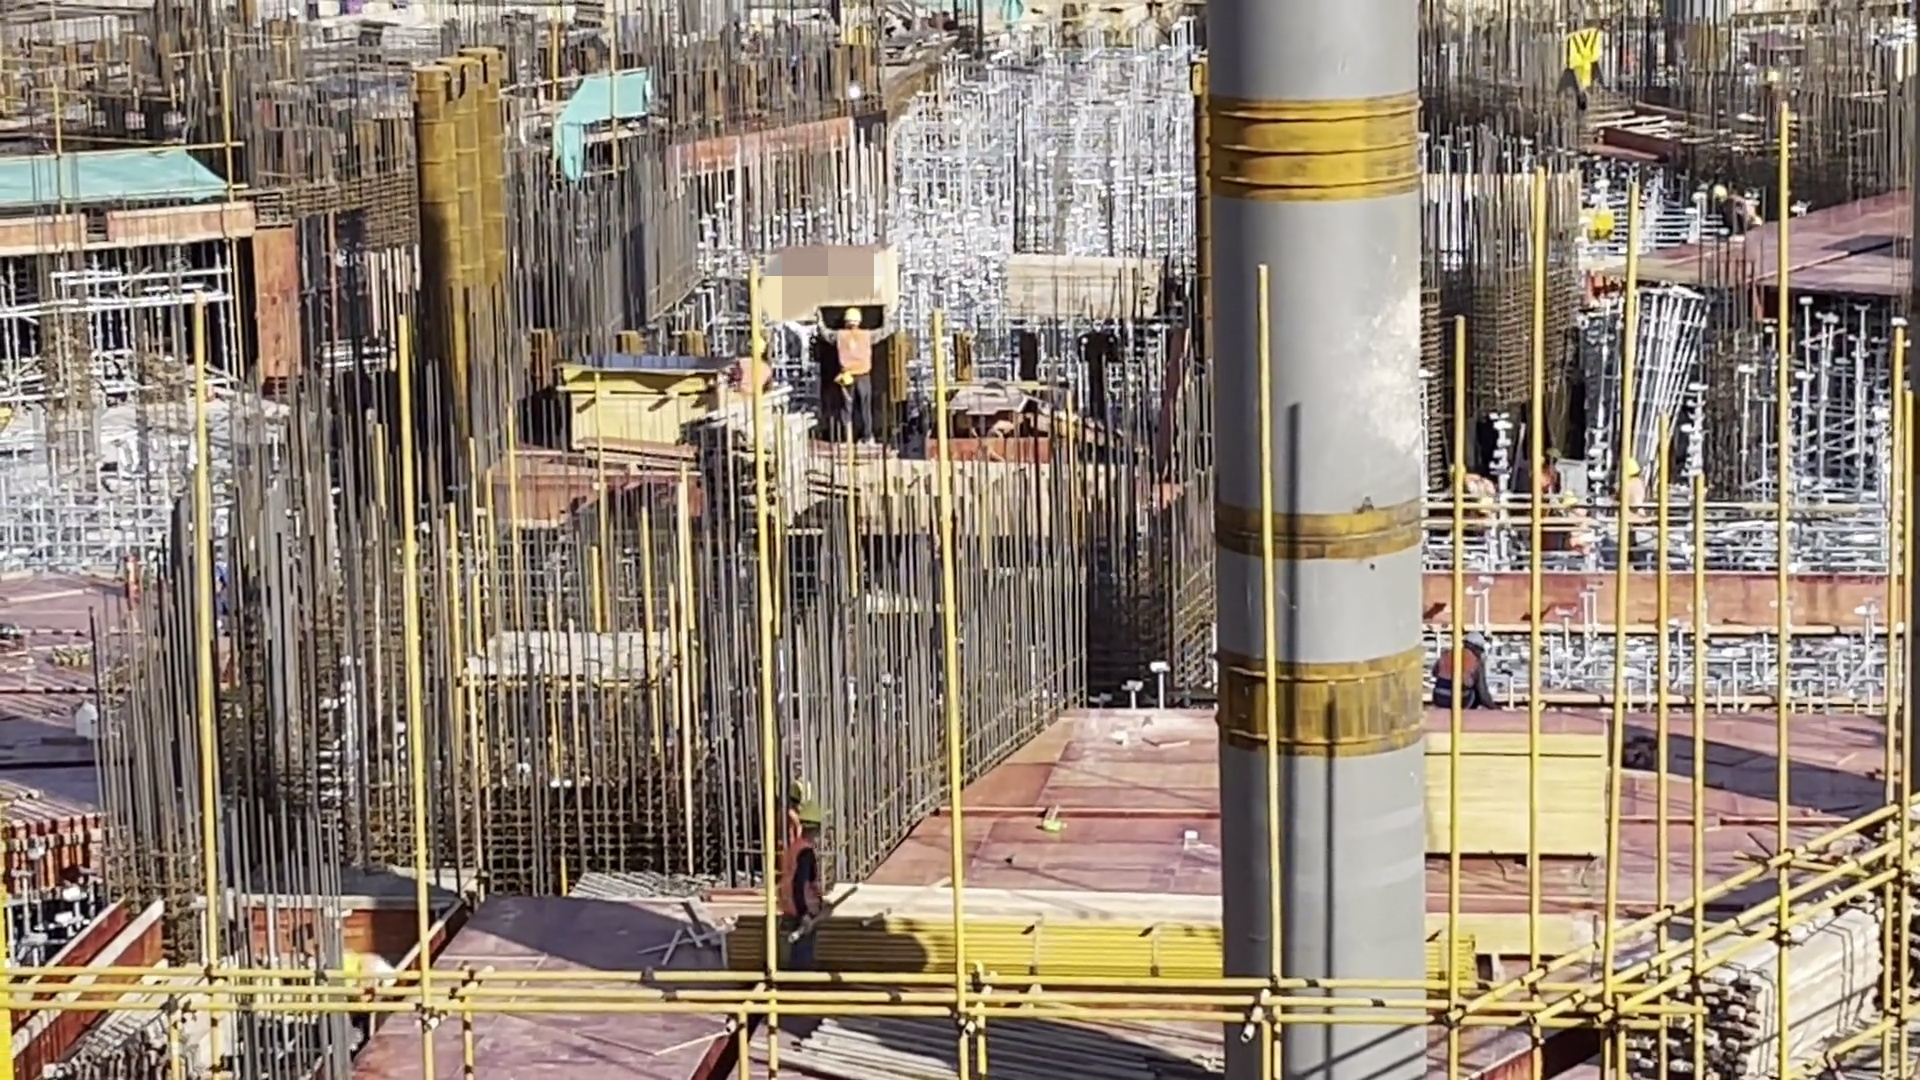helmet: (781, 785, 827, 830), (831, 297, 878, 335)
person: (806, 284, 928, 450), (761, 800, 843, 927)
vest: (770, 839, 836, 930), (840, 329, 881, 379)
